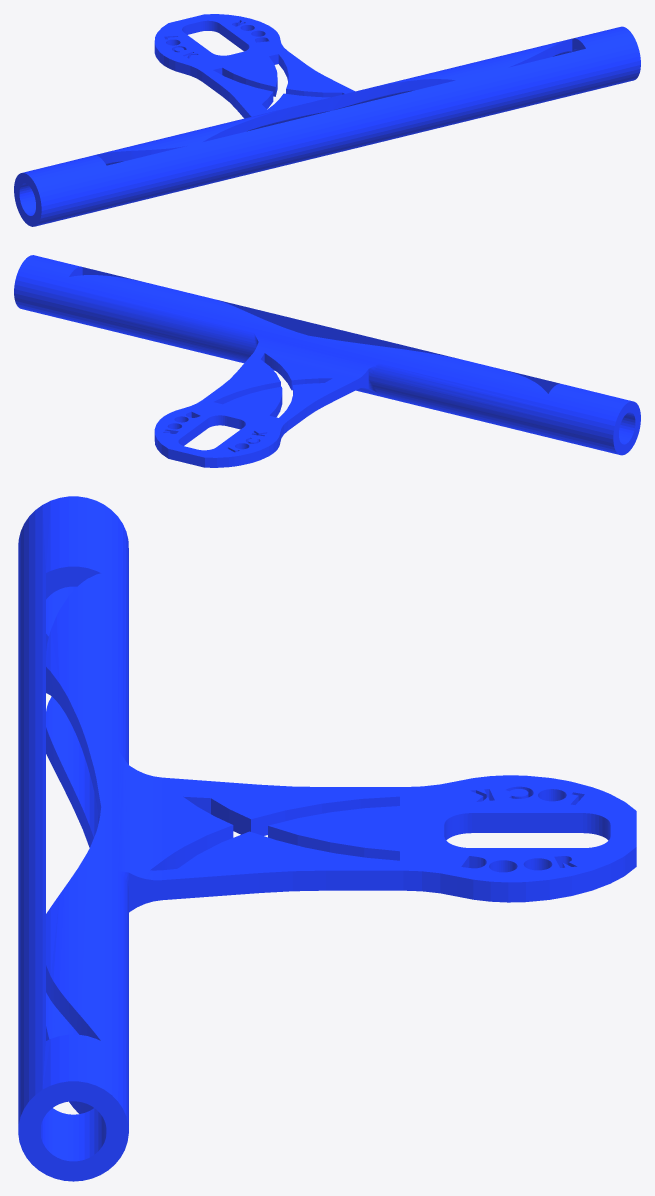
The picture shows the model from 3 angles, top to bottom: view 1: azimuth 30°, elevation 25°; view 2: azimuth 150°, elevation 25°; view 3: azimuth 270°, elevation 25°; orthographic projection. The views are drawn at different scales.
Parts seen in each view (by area): view 1: MODERN_DOOR_LOCK__ASSEMBLY_-_DOOR_LOCK_HANDLE-1STL; view 2: MODERN_DOOR_LOCK__ASSEMBLY_-_DOOR_LOCK_HANDLE-1STL; view 3: MODERN_DOOR_LOCK__ASSEMBLY_-_DOOR_LOCK_HANDLE-1STL.
Part boxes in pixels (x1,y1,x2,y2): MODERN_DOOR_LOCK__ASSEMBLY_-_DOOR_LOCK_HANDLE-1STL: (14,14,640,226); MODERN_DOOR_LOCK__ASSEMBLY_-_DOOR_LOCK_HANDLE-1STL: (14,255,640,467); MODERN_DOOR_LOCK__ASSEMBLY_-_DOOR_LOCK_HANDLE-1STL: (18,496,636,1181).
Bounding box in the file's own units: 2.5 × 0.1996 × 1.12.
